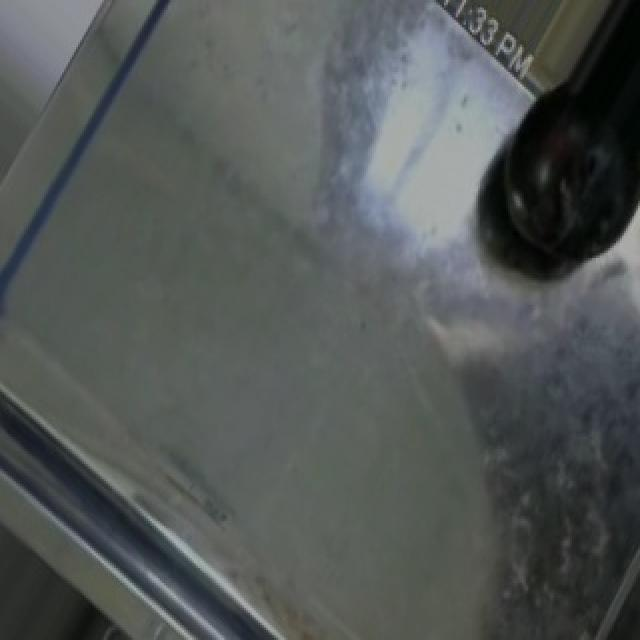Fruit: (472, 75, 640, 300)
